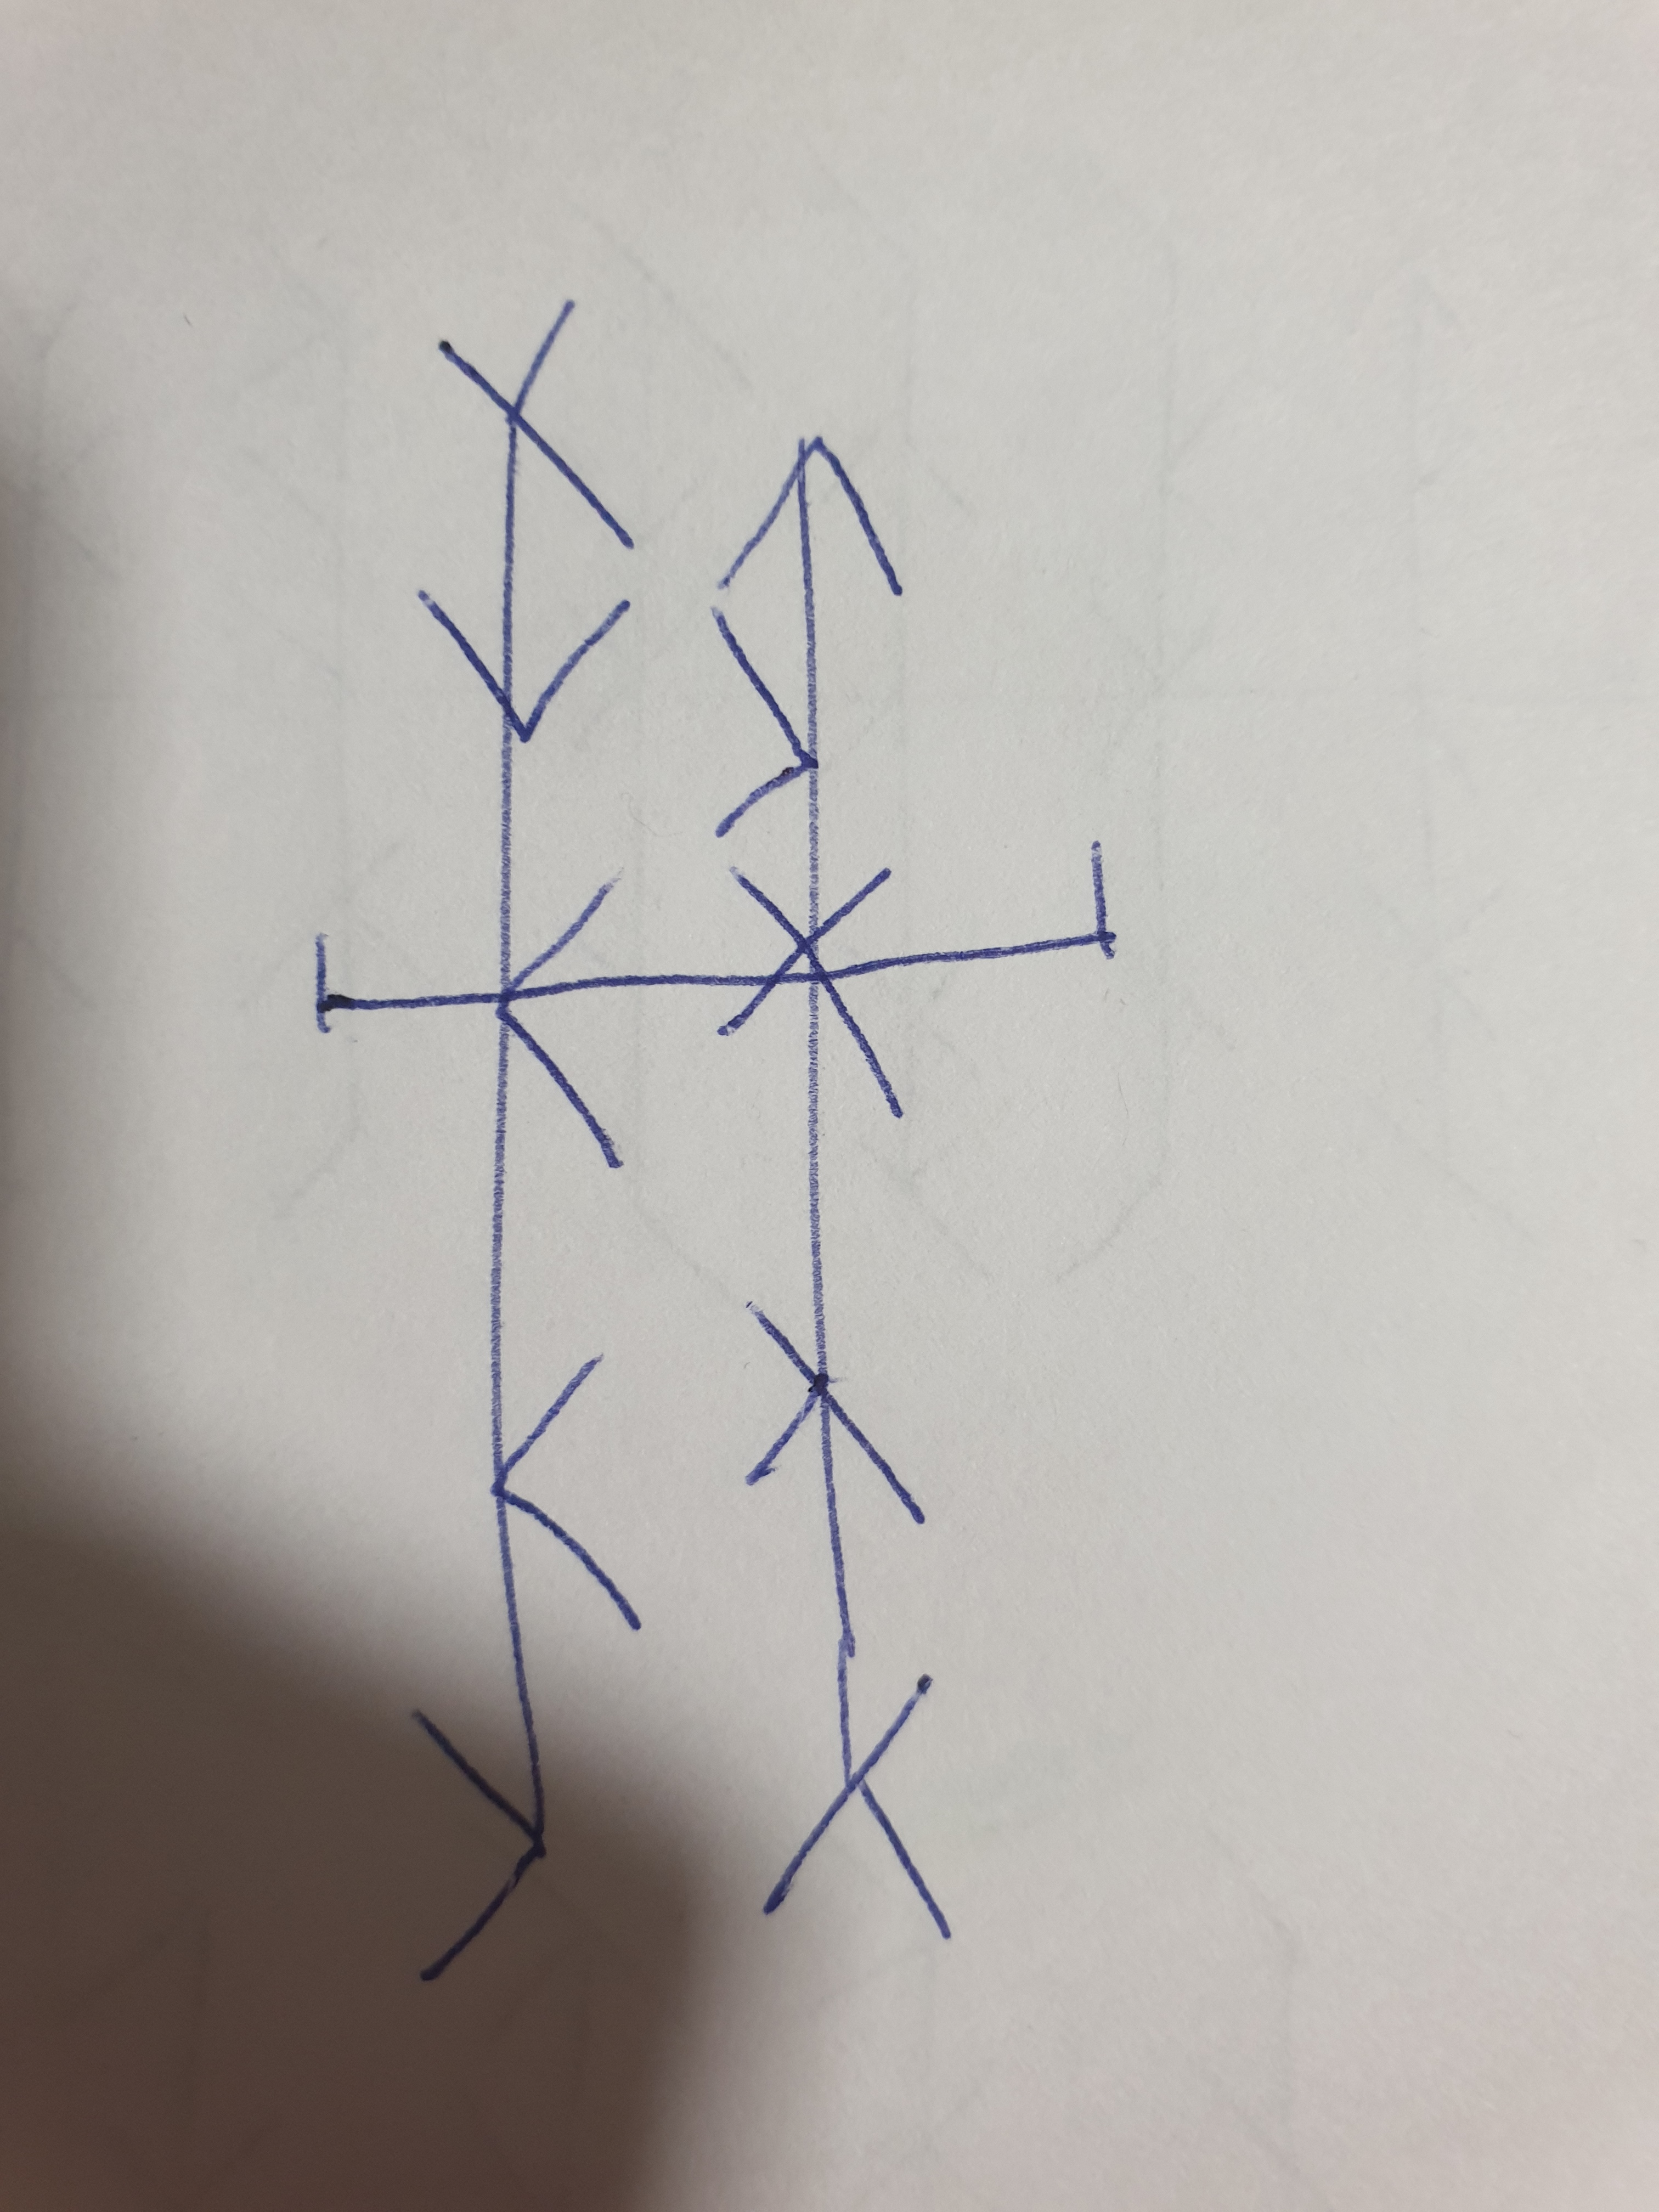Bar: (413, 301, 645, 1979), (711, 437, 953, 1944)
Barcode: (315, 298, 1121, 1979)
End: (892, 841, 1117, 970)
Start: (315, 934, 497, 1038)
